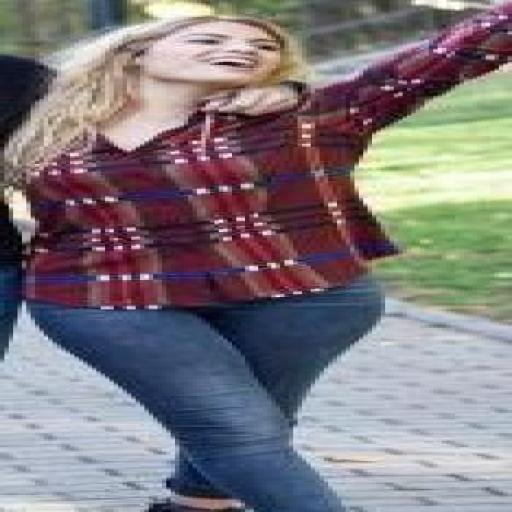person: (5, 2, 511, 511), (0, 188, 21, 358), (0, 189, 21, 357)
